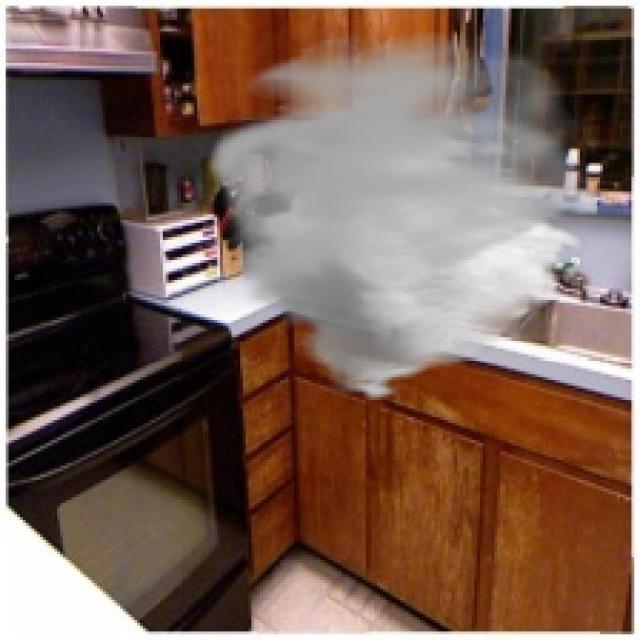smoke: (203, 31, 597, 403)
